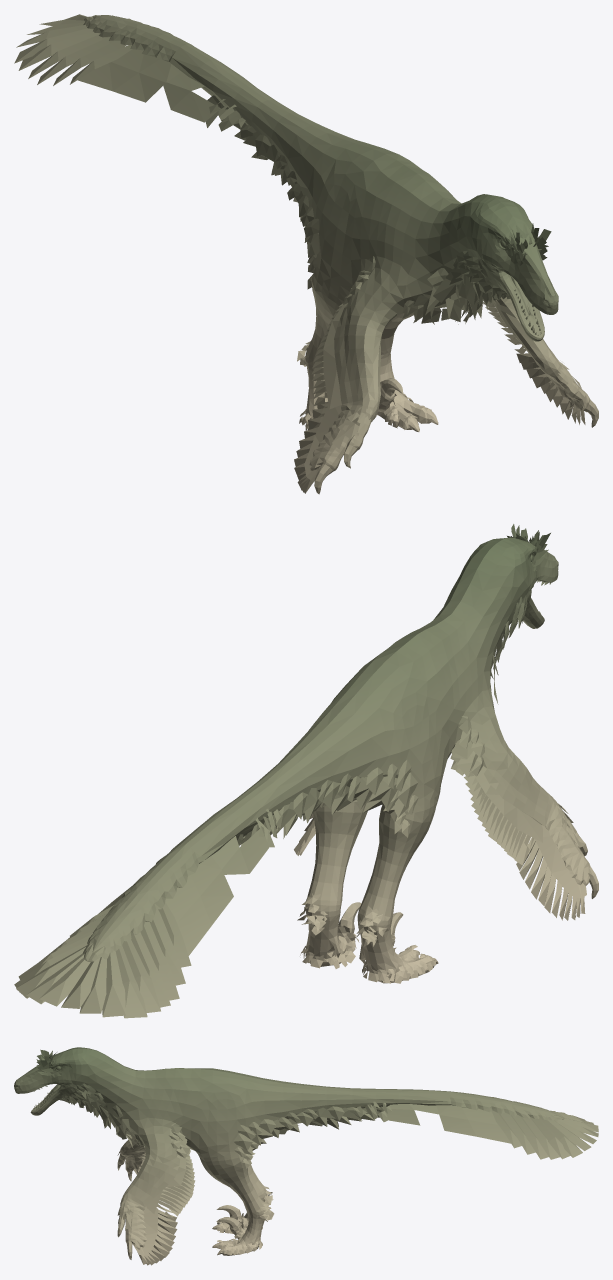
Rendered from dakotaraptor.glb.
The picture shows the model from 3 angles, top to bottom: view 1: azimuth 30°, elevation 25°; view 2: azimuth 150°, elevation 25°; view 3: azimuth 270°, elevation 25°; orthographic projection. The views are drawn at different scales.
Visible parts, largest first — view 1: dakotaraptor.obj; view 2: dakotaraptor.obj; view 3: dakotaraptor.obj.
Part boxes in pixels (left/top/right/bottom): dakotaraptor.obj: left=14, top=14, right=598, bottom=494; dakotaraptor.obj: left=14, top=524, right=598, bottom=1018; dakotaraptor.obj: left=14, top=1047, right=598, bottom=1265.
Size of the model in its own units: 3.2 by 3.5 by 9.67.
